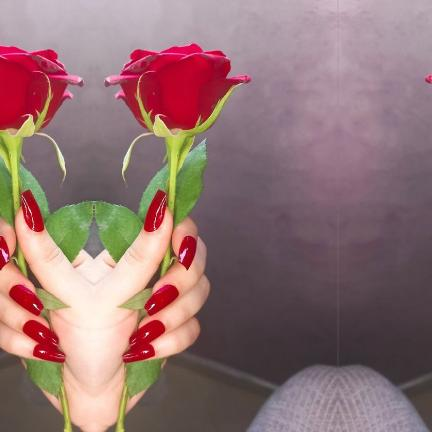Nail: (143, 284, 178, 316), (8, 284, 43, 316), (128, 320, 164, 348), (22, 320, 58, 348), (143, 189, 166, 232), (20, 189, 43, 232), (177, 235, 196, 270), (121, 344, 154, 363), (32, 344, 65, 363), (0, 236, 9, 270)
